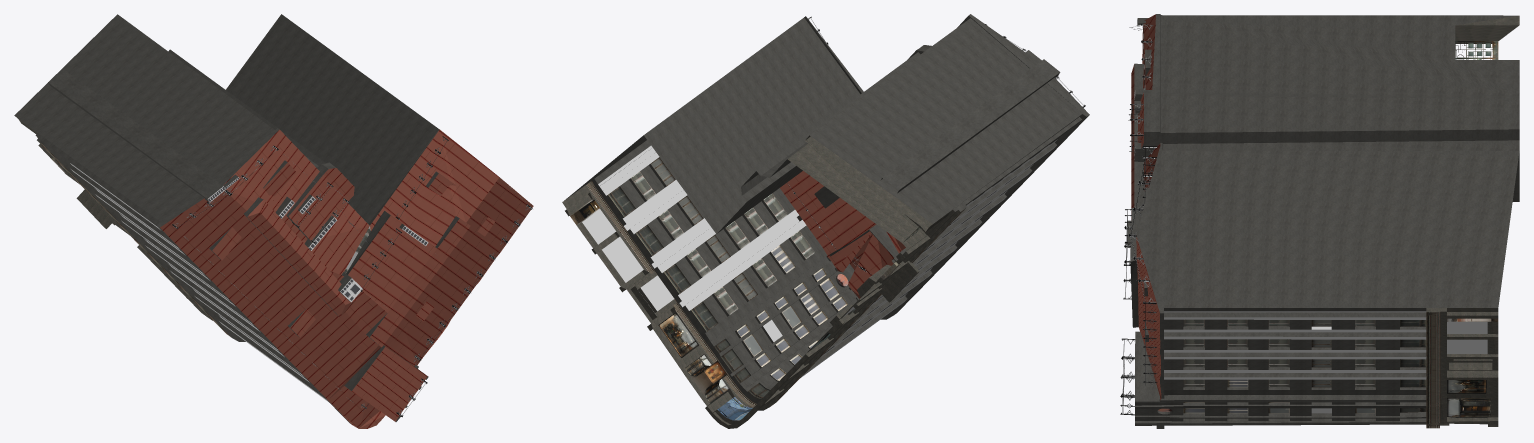
The model's file is Parnu_mnt_8_1.obj.
The picture shows the model from 3 angles, left to right: view 1: azimuth 30°, elevation 25°; view 2: azimuth 150°, elevation 25°; view 3: azimuth 270°, elevation 25°; orthographic projection. The views are drawn at different scales.
Parts seen in each view (by area): view 1: Parnu_mnt_8_1; view 2: Parnu_mnt_8_1; view 3: Parnu_mnt_8_1.
Part boxes in pixels (x1,y1,x2,y2): Parnu_mnt_8_1: (14, 14, 533, 428); Parnu_mnt_8_1: (562, 14, 1089, 428); Parnu_mnt_8_1: (1120, 14, 1519, 428).
Bounding box in the file's own units: 39.71 × 32.52 × 32.52.
